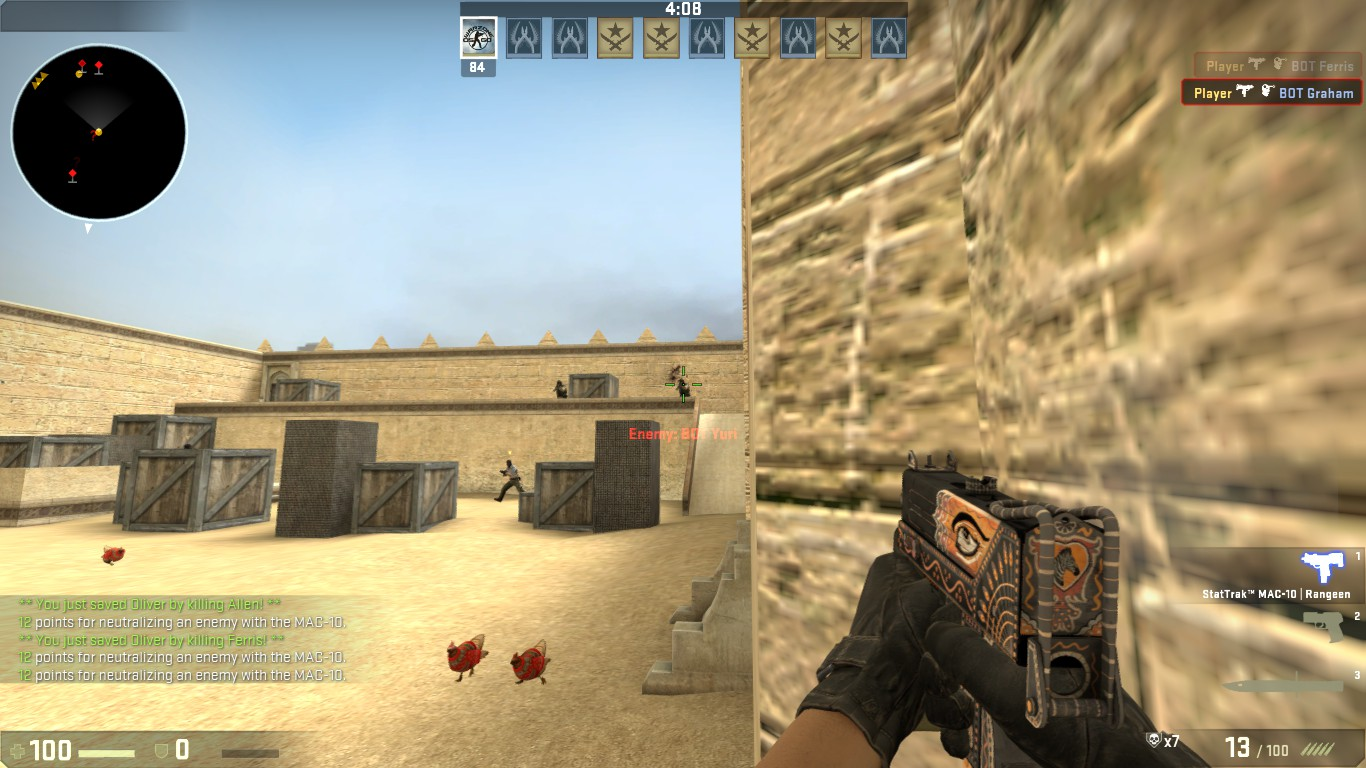c: (673, 378, 695, 398), (552, 378, 570, 400)
ch: (556, 379, 564, 387), (680, 379, 687, 385)
t: (496, 459, 528, 502)
th: (504, 458, 514, 468)
